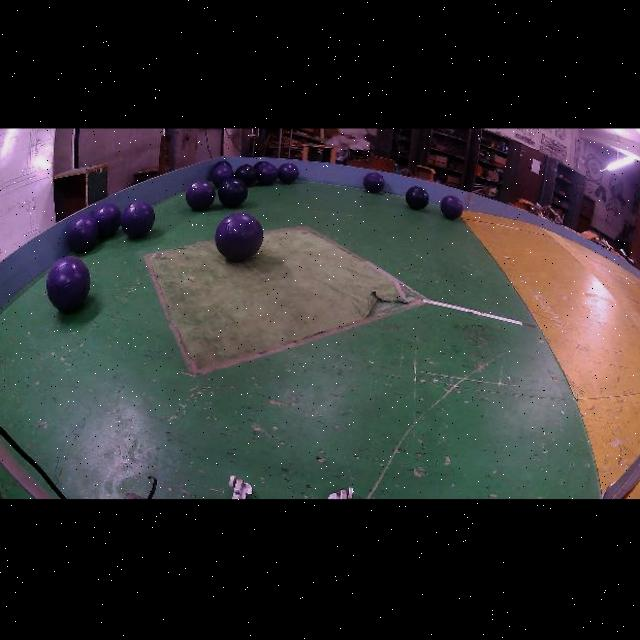B: (218, 179, 247, 208), (406, 187, 429, 210), (234, 165, 258, 187), (214, 161, 232, 168)
P: (215, 212, 264, 261), (47, 258, 90, 312), (121, 202, 154, 238), (68, 215, 99, 252), (92, 203, 121, 238), (185, 181, 215, 211), (211, 165, 234, 188), (441, 196, 463, 219), (256, 163, 278, 185), (363, 172, 385, 193), (278, 163, 299, 184)
